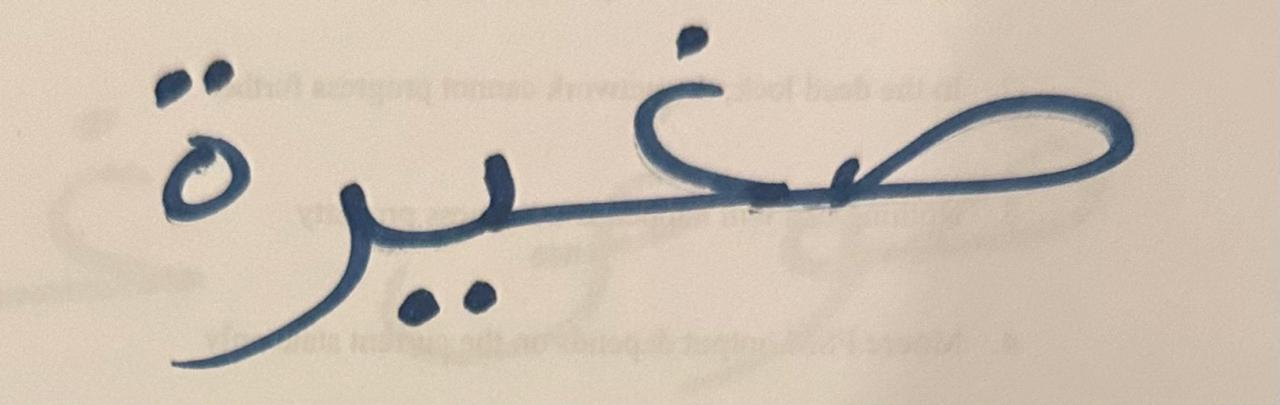ghain: (550, 1, 797, 281)
sad: (261, 123, 380, 369)
seen: (801, 3, 1179, 283)
thal: (110, 30, 257, 235)
zah: (384, 39, 547, 354)
